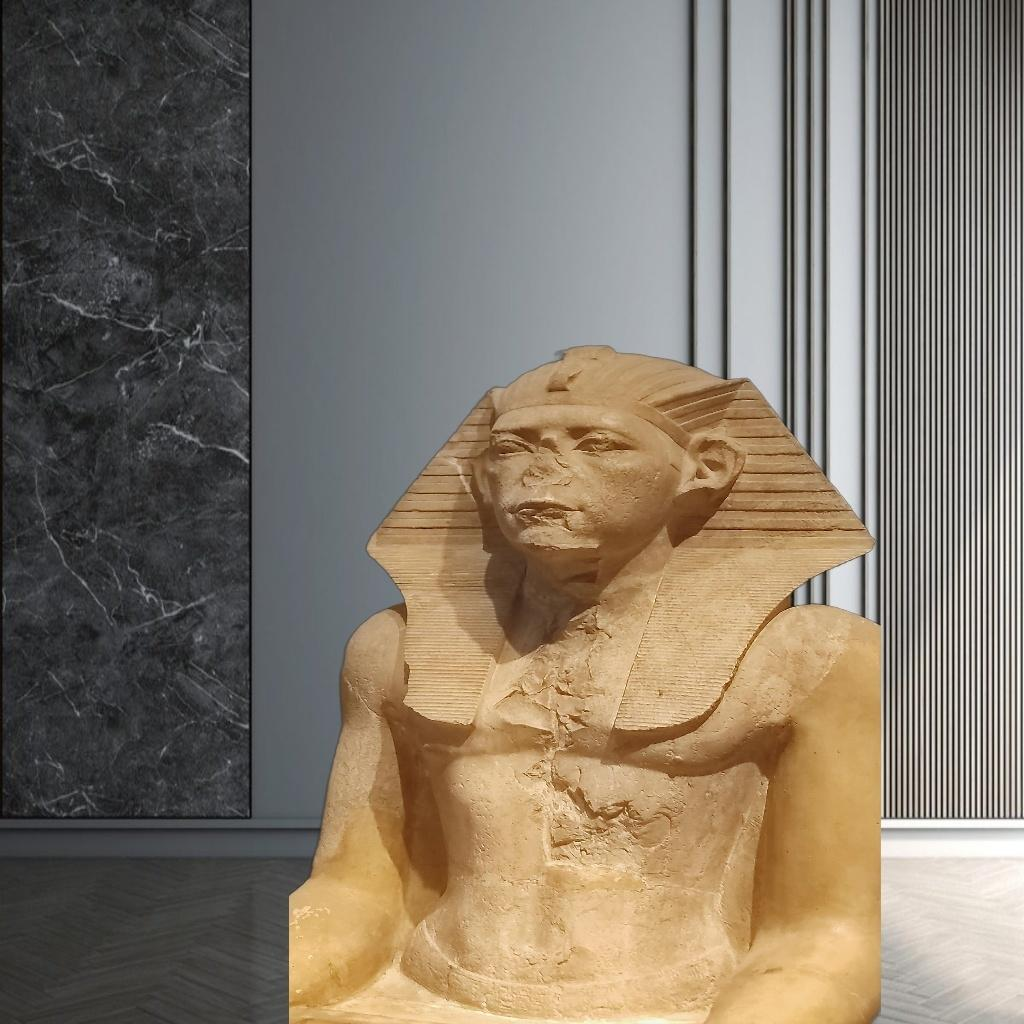Amenhotep III with Plate: (288, 287, 880, 1024)
